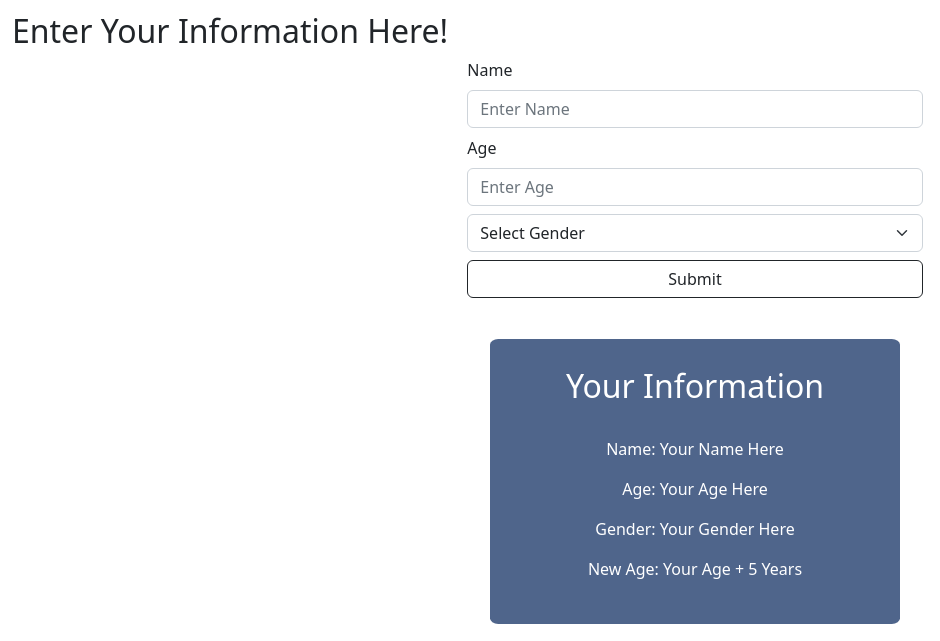
Test: working form onchange
Type "saeed" into the field with test id "name-input". click: (695, 109)
box: [467,90,923,128]
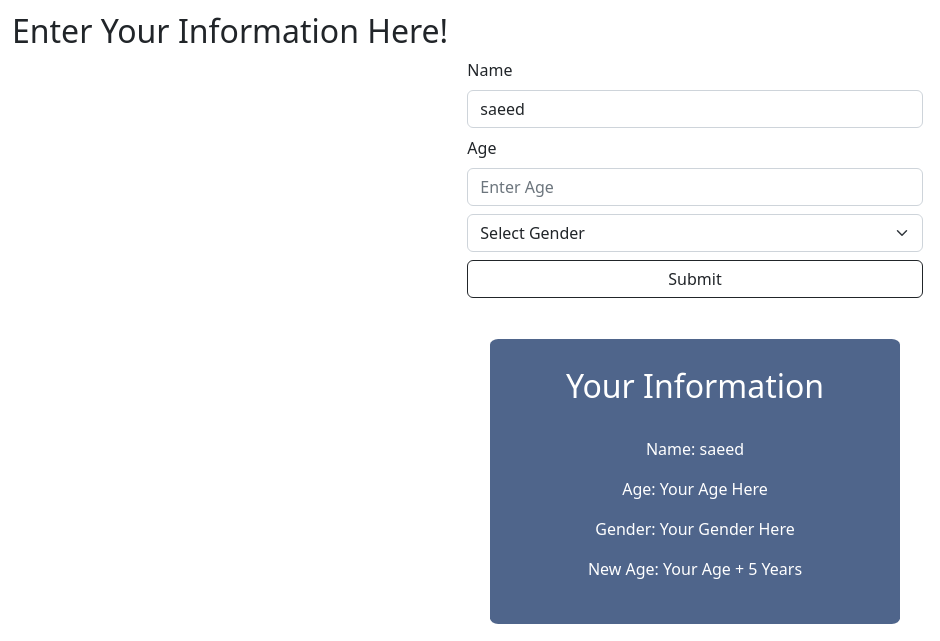
Type "28" into the field with test id "age-input". click: (695, 187)
box: [467,168,923,206]
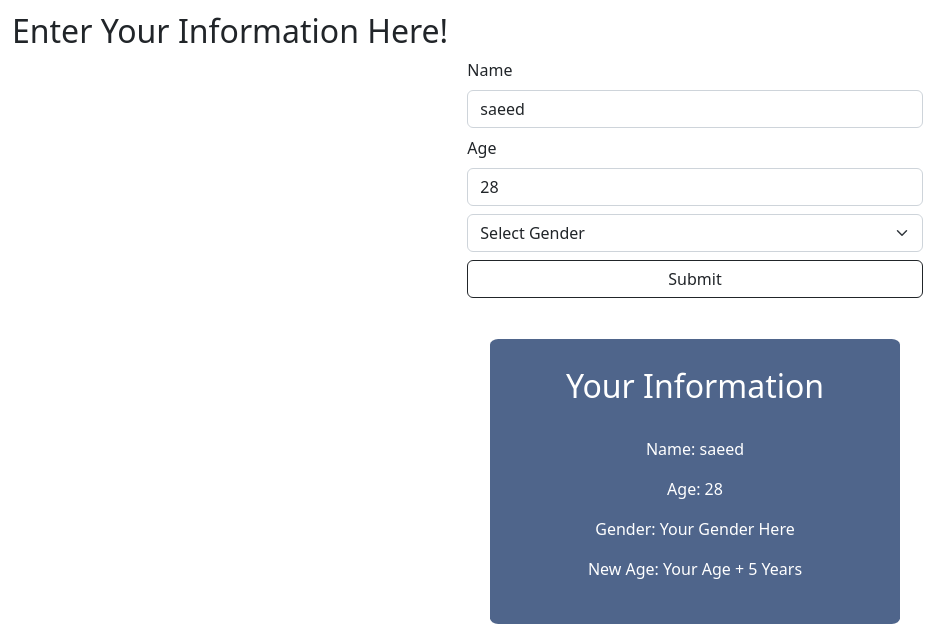
Select "Male" in the dropdown with test id "gender-input". click: (695, 233)
box: [467,214,923,252]
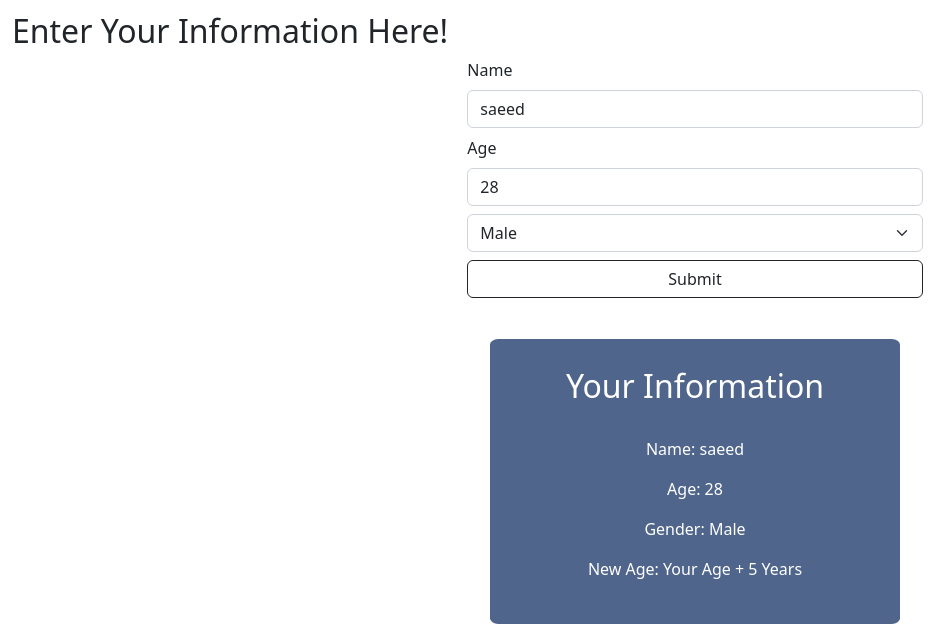
Now the text with test id "name-output" reads "Name: saeed", box [646,437,744,461]
Now the text with test id "age-output" reads "Age: 28", box [667,477,723,501]
Now the text with test id "gender-output" reads "Gender: Male", box [644,517,746,541]
